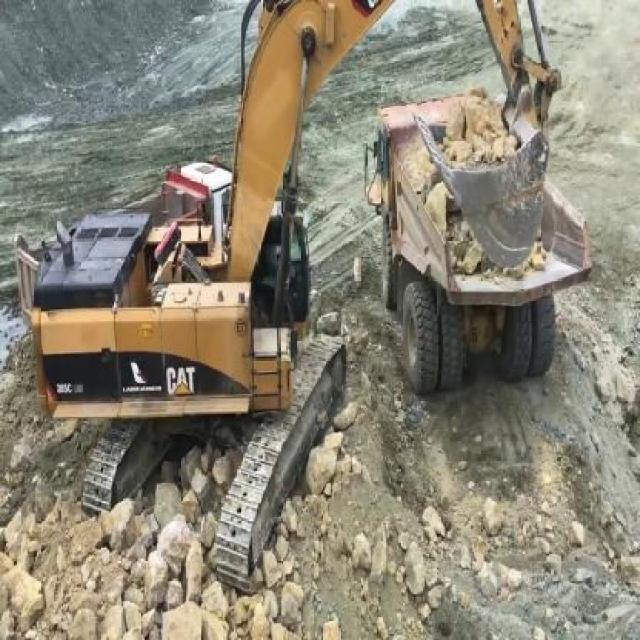Dump Truck: (362, 88, 595, 395)
Excavator: (29, 0, 562, 591)
